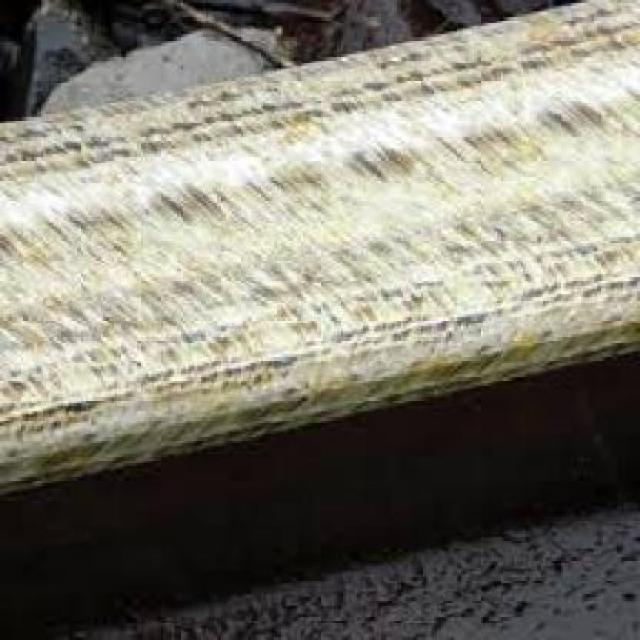defective: (1, 7, 638, 529)
